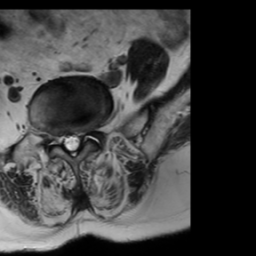CCS_normal: (68, 127, 75, 162)
LFS_severe_stenosis: (82, 121, 91, 141)
LLS_normal: (75, 126, 82, 151)
RFS_normal: (53, 127, 61, 149)
RLS_normal: (61, 127, 68, 155)
